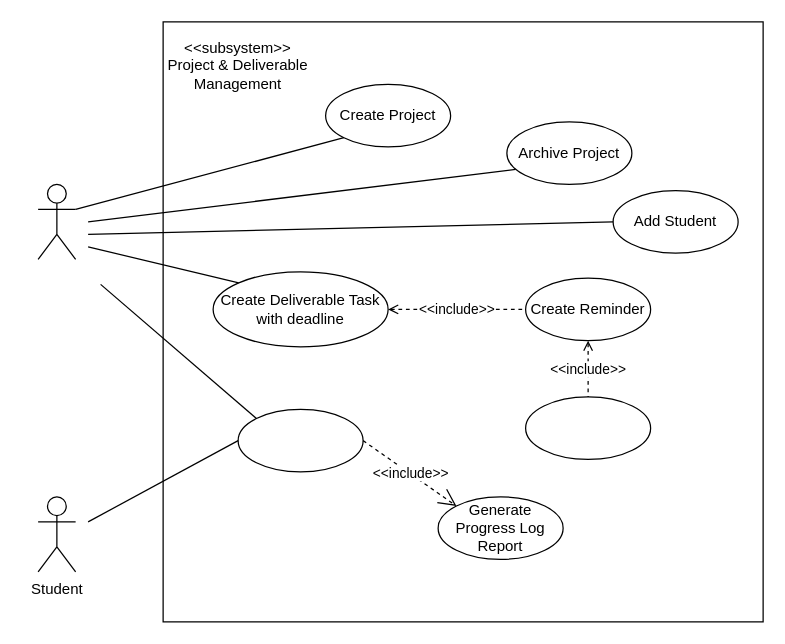
Image size: 785x644. Some labels were removed from this diagram. Each missing label, with the centre of its shape:
"Download Progress Log Report" goes at [300,440].
"Send Email Notification" goes at [587,427].
"Supervisor" goes at [56,221].
